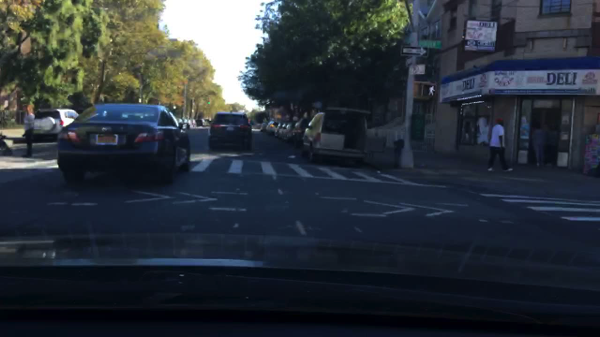car: (55, 101, 192, 187), (300, 108, 369, 167), (208, 112, 252, 152), (33, 107, 83, 142), (289, 118, 313, 148), (281, 122, 297, 140), (274, 120, 289, 137), (267, 120, 277, 131), (259, 120, 268, 132), (197, 118, 207, 128), (175, 117, 185, 127), (185, 118, 194, 127)
person: (486, 118, 512, 172), (20, 106, 37, 158)
traffic light: (421, 82, 436, 97)
traffic sign: (401, 45, 428, 56), (418, 39, 440, 50), (410, 67, 425, 75), (404, 59, 412, 64)
